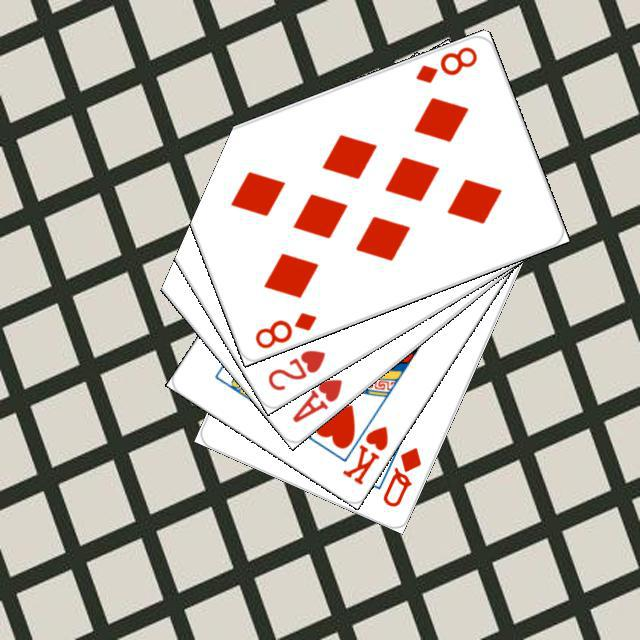2h: (262, 344, 327, 393)
8d: (249, 307, 319, 351), (411, 41, 479, 85)
Ah: (287, 373, 344, 425)
Kh: (335, 407, 390, 487)
Qd: (377, 442, 423, 509)
